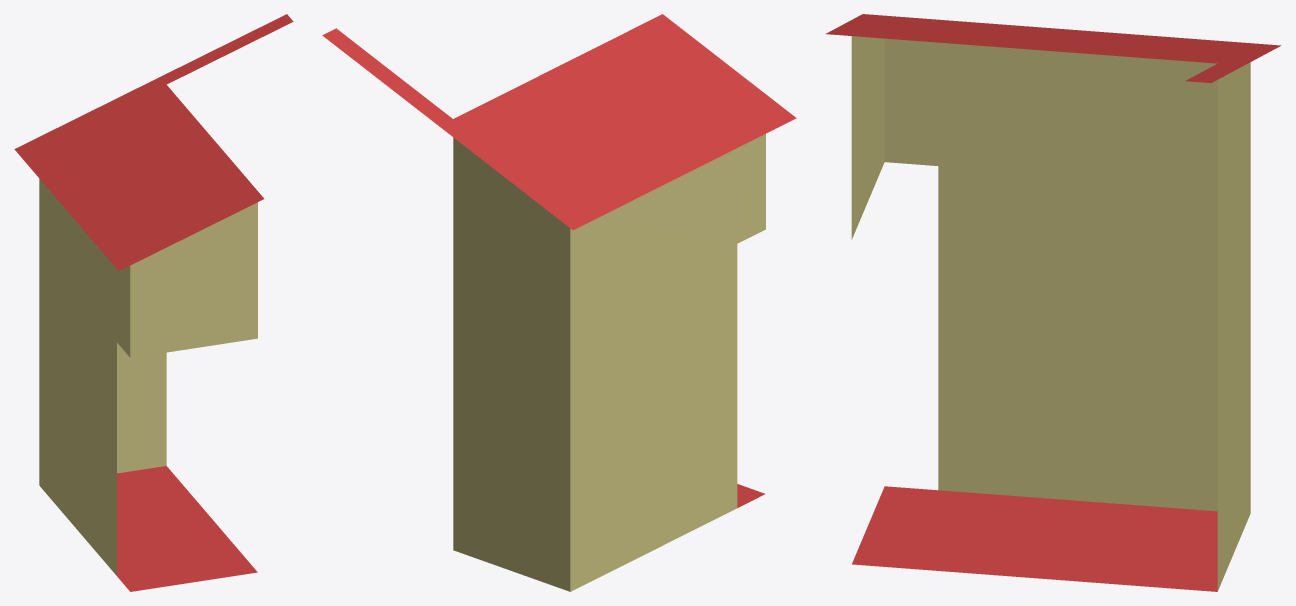
The picture shows the model from 3 angles, left to right: view 1: azimuth 30°, elevation 25°; view 2: azimuth 150°, elevation 25°; view 3: azimuth 270°, elevation 25°; orthographic projection. The views are drawn at different scales.
Size of the model in its own units: 8.73 by 8.48 by 12.06.
